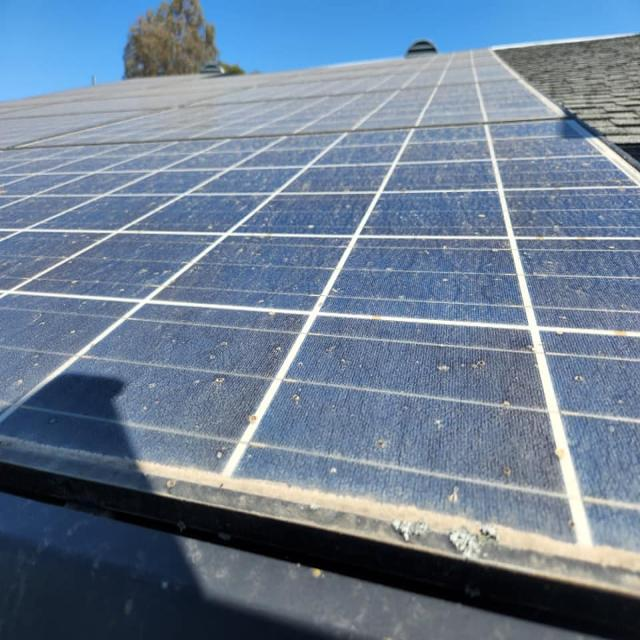dust-solar-panel: (0, 47, 640, 583)
